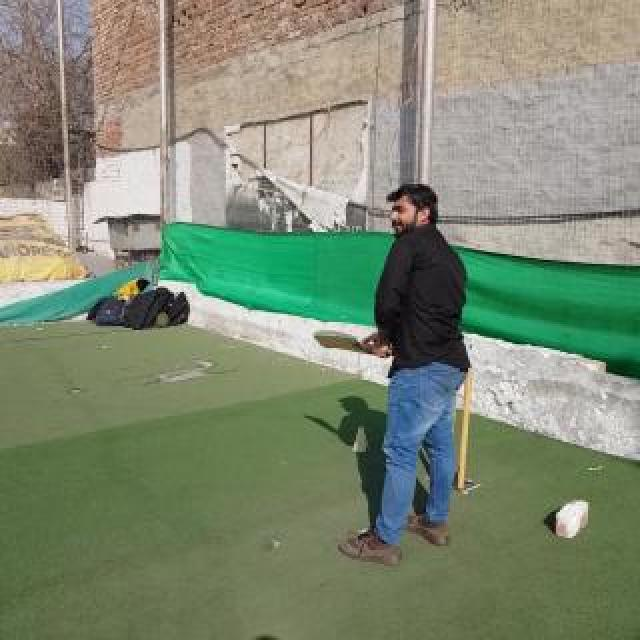bat: (313, 330, 393, 356)
